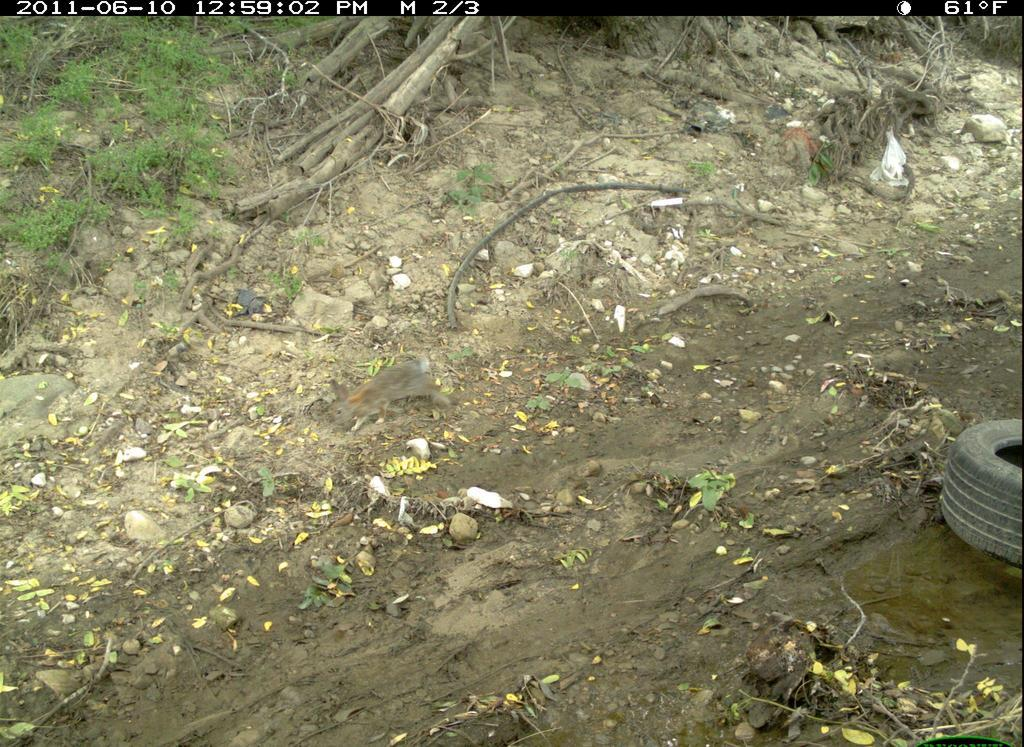rabbit: (314, 346, 459, 441)
